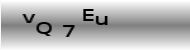7: (62, 24, 76, 37)
E: (81, 8, 95, 23)
Q: (35, 21, 53, 37)
u: (95, 14, 109, 26)
v: (21, 13, 36, 24)
